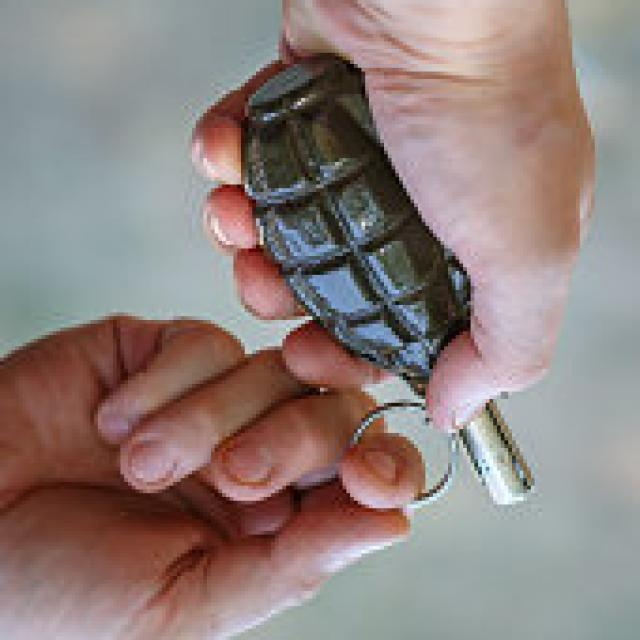grenade: (241, 45, 544, 513)
